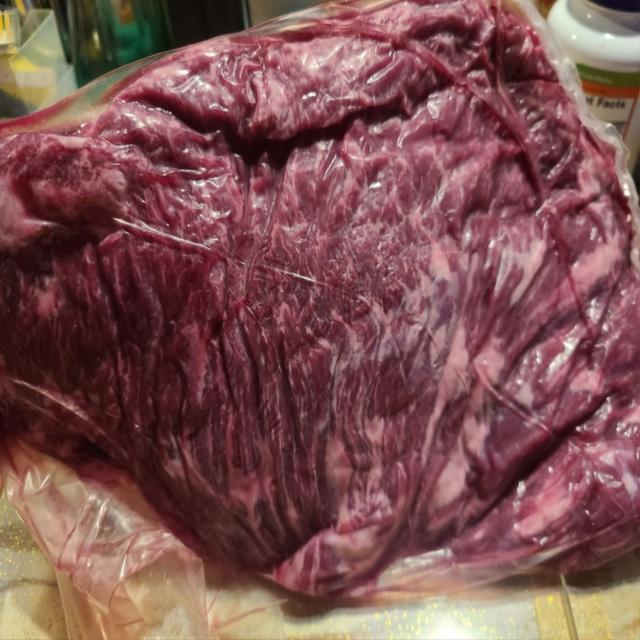beef: (54, 74, 606, 586)
